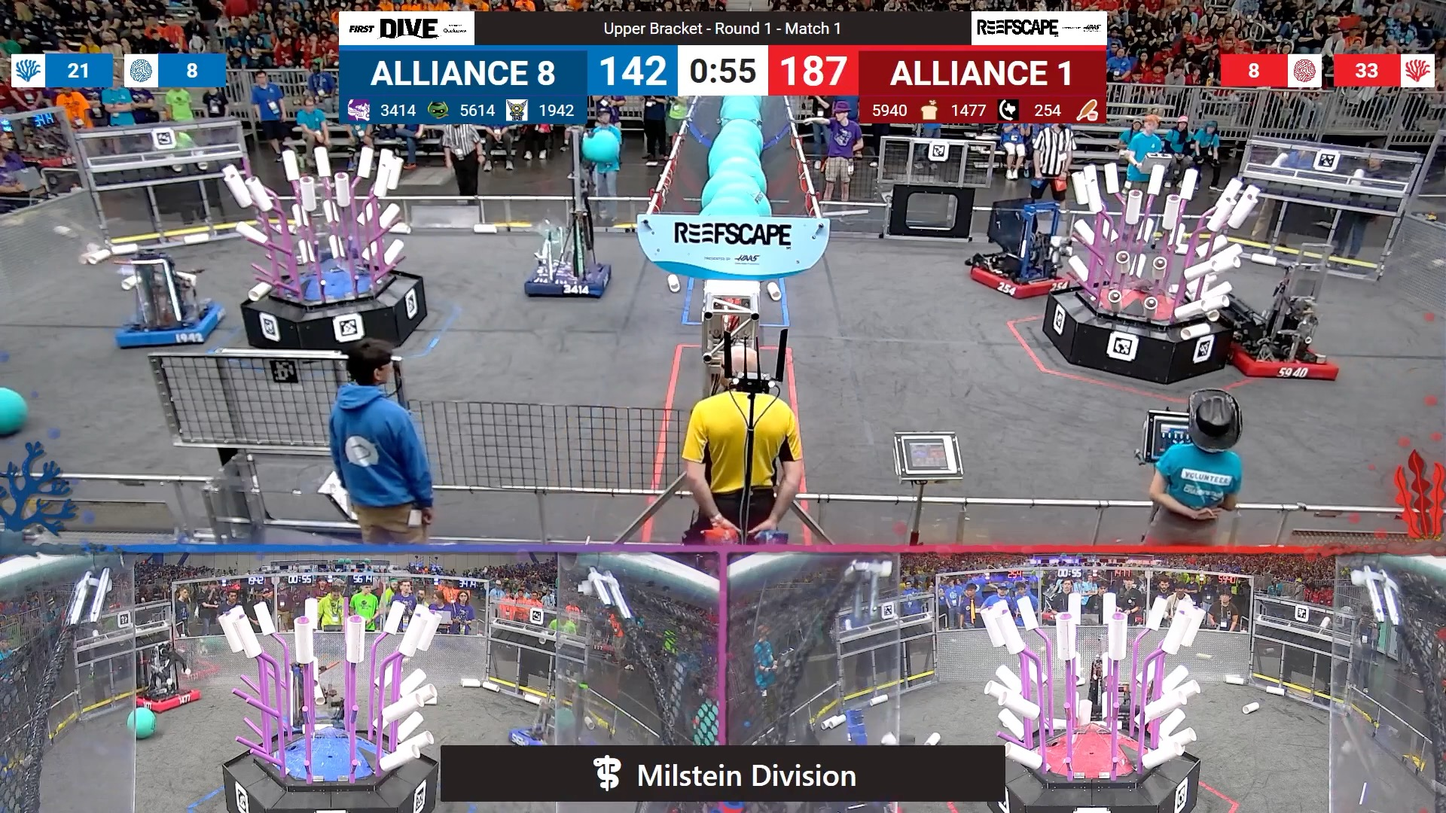bumpers: (1218, 326, 1351, 389), (111, 298, 227, 350), (962, 259, 1088, 300), (520, 257, 619, 301), (129, 685, 208, 717), (508, 723, 568, 745)
